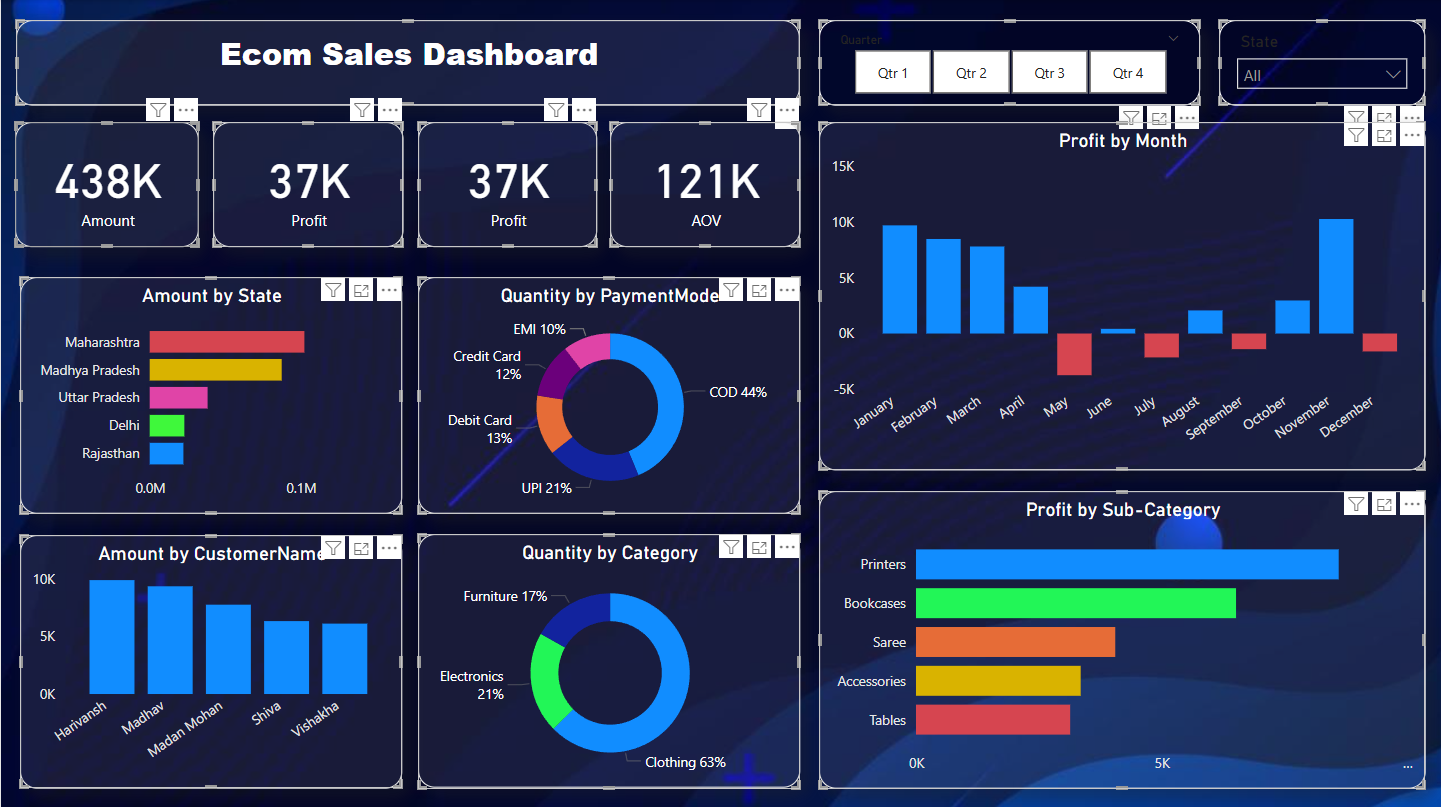

What the dashboard file says about the page in this screenshot:
{"tool":"powerbi","page":{"name":"Page 1","canvas":[1280,720],"ordinal":0},"visuals":[{"type":"textbox","box":[13.1,17.4,695.4,75.6],"z":0},{"type":"columnChart","title":"Profit by Month","fields":{"Category":["Orders.Order Date.Variation.Date Hierarchy.Month"],"Y":["Details.Profit"]},"box":[725.3,108.1,537.5,309.1],"z":1000},{"type":"barChart","fields":{"Category":["Details.Sub-Category"],"Y":["Details.Profit"]},"box":[725.3,435.6,537.5,263.7],"z":2000},{"type":"donutChart","fields":{"Category":["Details.Category"],"Y":["Details.Quantity"]},"box":[369.6,473.8,338.7,225.4],"z":3000},{"type":"donutChart","fields":{"Y":["Details.Quantity"],"Category":["Details.PaymentMode"]},"box":[369.6,245.6,338.7,209.8],"z":4000},{"type":"card","fields":{"Values":["Details.Amount"]},"box":[12.4,108.2,163,110.6],"z":5000},{"type":"card","fields":{"Values":["Details.Profit"]},"box":[188.2,108.2,168.7,110.6],"z":6000},{"type":"card","fields":{"Values":["Details.Profit"]},"box":[369.6,108.2,158.7,110.6],"z":7000},{"type":"card","fields":{"Values":["Details.AOV"]},"box":[539.7,108.2,168.7,110.6],"z":8000},{"type":"barChart","fields":{"Category":["Orders.State"],"Y":["Details.Amount"]},"box":[16.7,245.6,338.7,209.8],"z":9000},{"type":"columnChart","fields":{"Category":["Orders.CustomerName"],"Y":["Details.Amount"]},"box":[16.7,474,339,225],"z":10000},{"type":"slicer","fields":{"Values":["Orders.Order Date.Variation.Date Hierarchy.Quarter"]},"box":[725.3,17.4,337.6,75.6],"z":11000},{"type":"slicer","fields":{"Values":["Orders.State"]},"box":[1079.8,17.4,183.1,75.6],"z":12000}]}

Visuals, with their boxes in screenshot pixels (x1, y1, x2, y2), scaled from the page's 1280x720 canvas onto the 1441x807 screenshot:
textbox: Rect(15, 20, 798, 104)
"Profit by Month" columnChart: Rect(817, 121, 1422, 468)
barChart - Details.Sub-Category x Details.Profit: Rect(817, 488, 1422, 784)
donutChart - Details.Category x Details.Quantity: Rect(416, 531, 797, 784)
donutChart - Details.Quantity x Details.PaymentMode: Rect(416, 275, 797, 510)
card - Details.Amount: Rect(14, 121, 197, 245)
card - Details.Profit: Rect(212, 121, 402, 245)
card - Details.Profit: Rect(416, 121, 595, 245)
card - Details.AOV: Rect(608, 121, 798, 245)
barChart - Orders.State x Details.Amount: Rect(19, 275, 400, 510)
columnChart - Orders.CustomerName x Details.Amount: Rect(19, 531, 400, 783)
slicer - Orders.Order Date.Variation.Date Hierarchy.Quarter: Rect(817, 20, 1197, 104)
slicer - Orders.State: Rect(1216, 20, 1422, 104)
